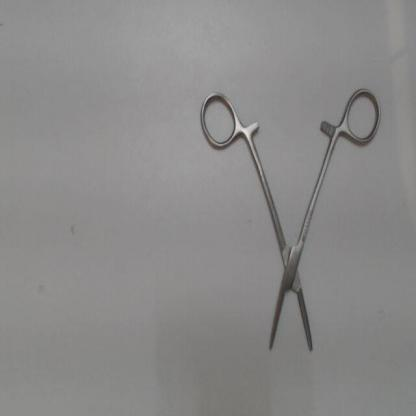Mayo Needle Holder: (192, 80, 386, 362)
